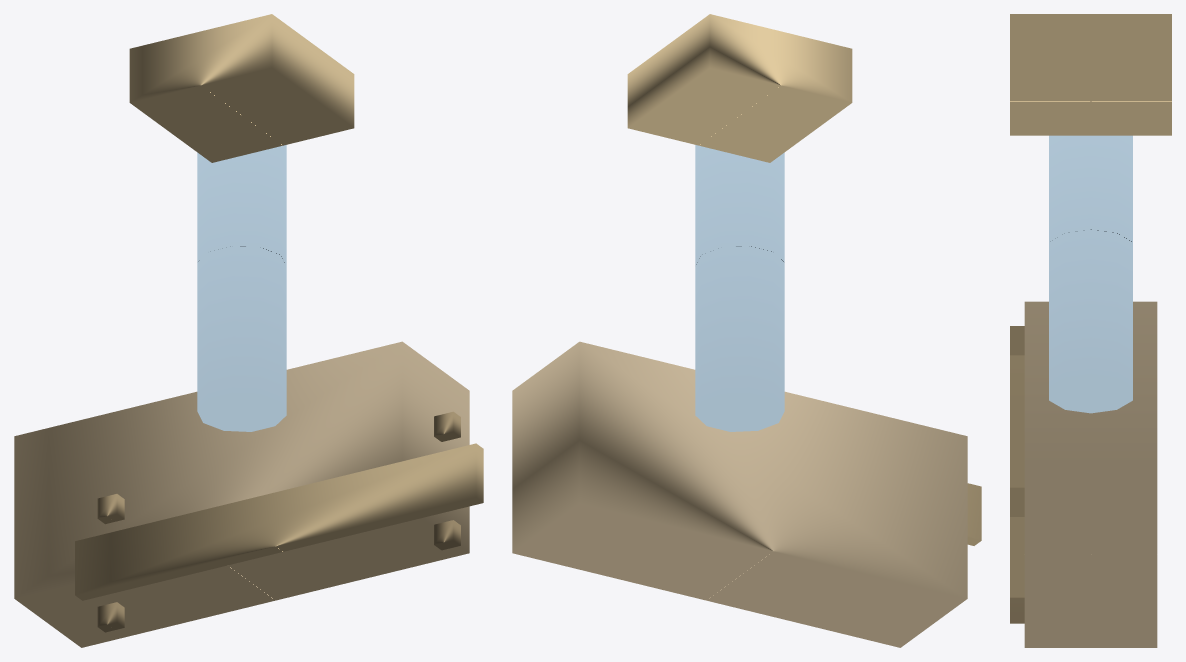
Rendered from press_piston.glb.
3 renders of one model, left to right at view 1: azimuth 30°, elevation 25°; view 2: azimuth 150°, elevation 25°; view 3: azimuth 270°, elevation 25°, orthographic.
Bounding box in the file's own units: 62 × 76 × 22.
